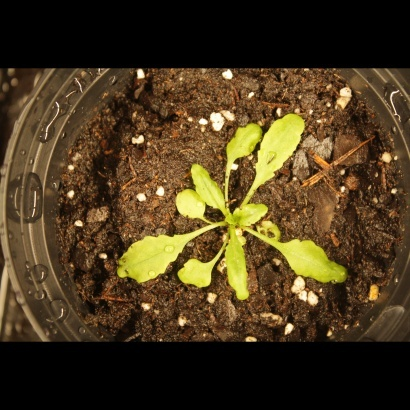leaf: (278, 229, 356, 290), (253, 111, 306, 195), (116, 229, 198, 283), (219, 231, 259, 306), (222, 117, 268, 170), (189, 160, 227, 213), (177, 253, 217, 293), (170, 186, 209, 224), (231, 201, 269, 228)
